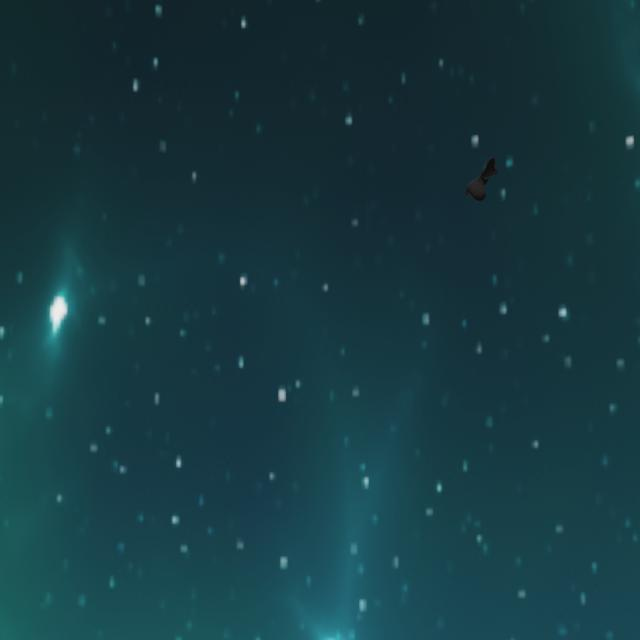large_debris: (468, 152, 501, 214)
